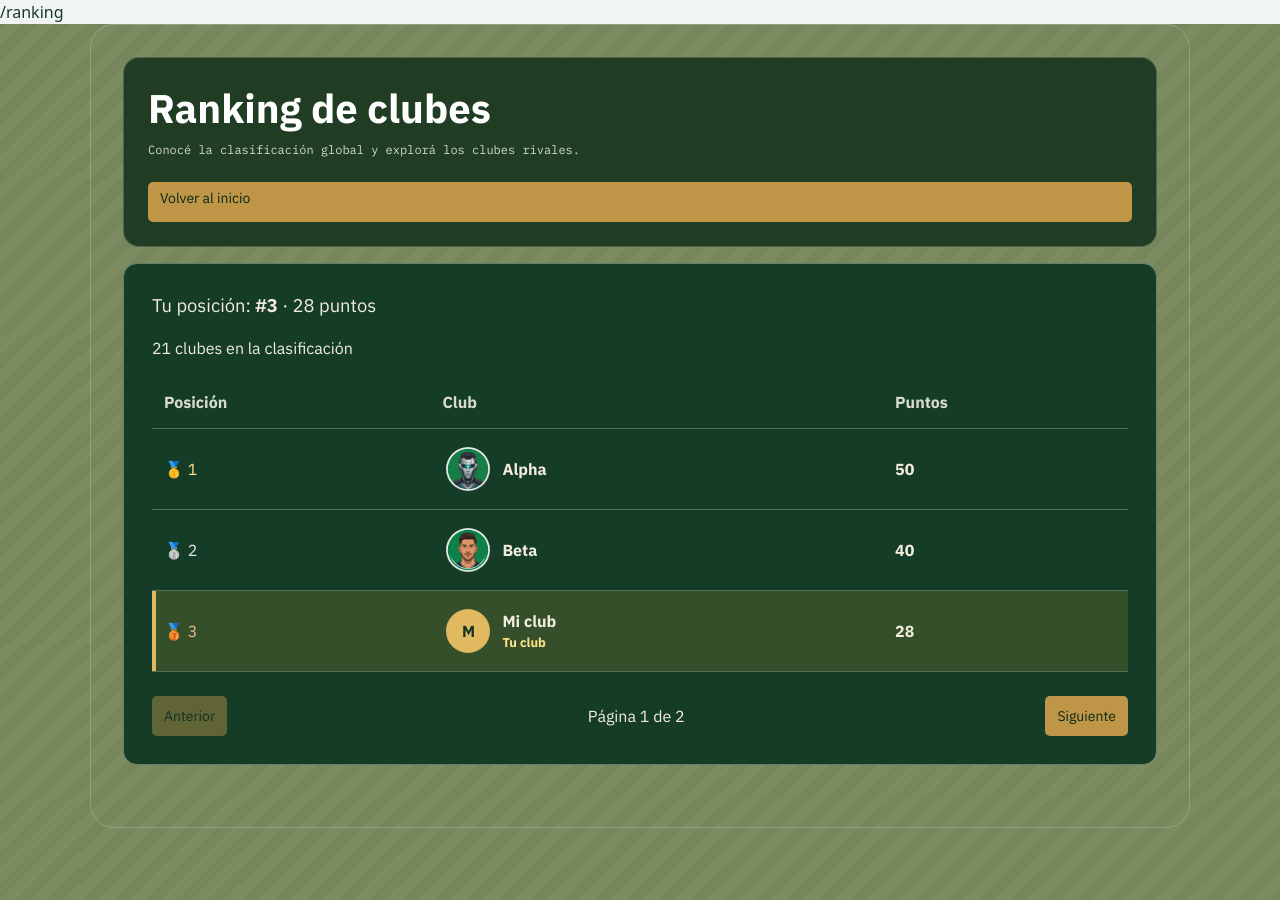
Ranking de clubes › abre el perfil al hacer clic en avatar sin navegar y devuelve el foco
Click the picture named "Escudo de Alpha" at (468, 469), box x1=446 y1=447 x2=490 y2=491
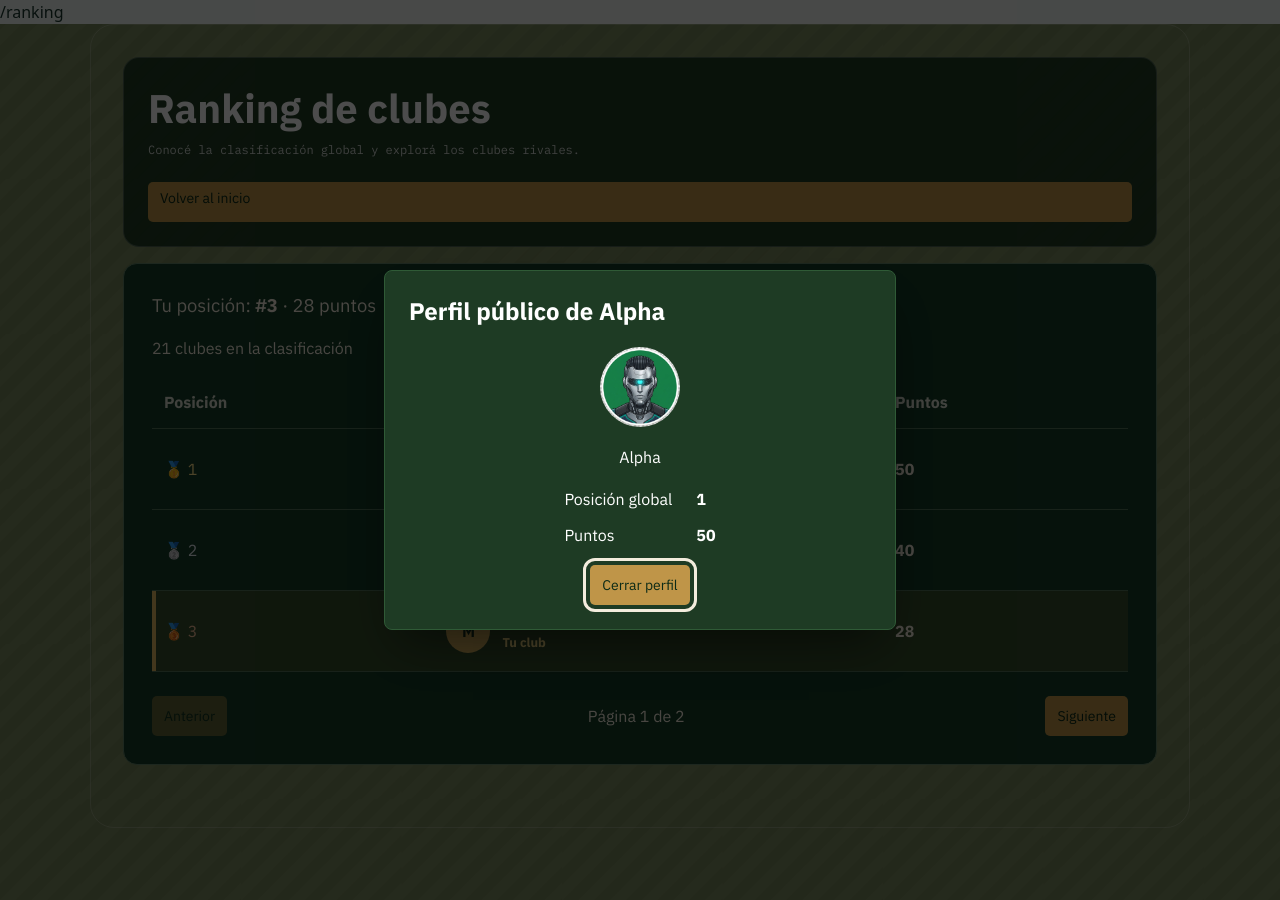
Check: the text named "Ruta actual" reads "/ranking", box x1=0 y1=1 x2=64 y2=23
Check: the text "50" is shown, box x1=696 y1=523 x2=716 y2=547
Press Escape
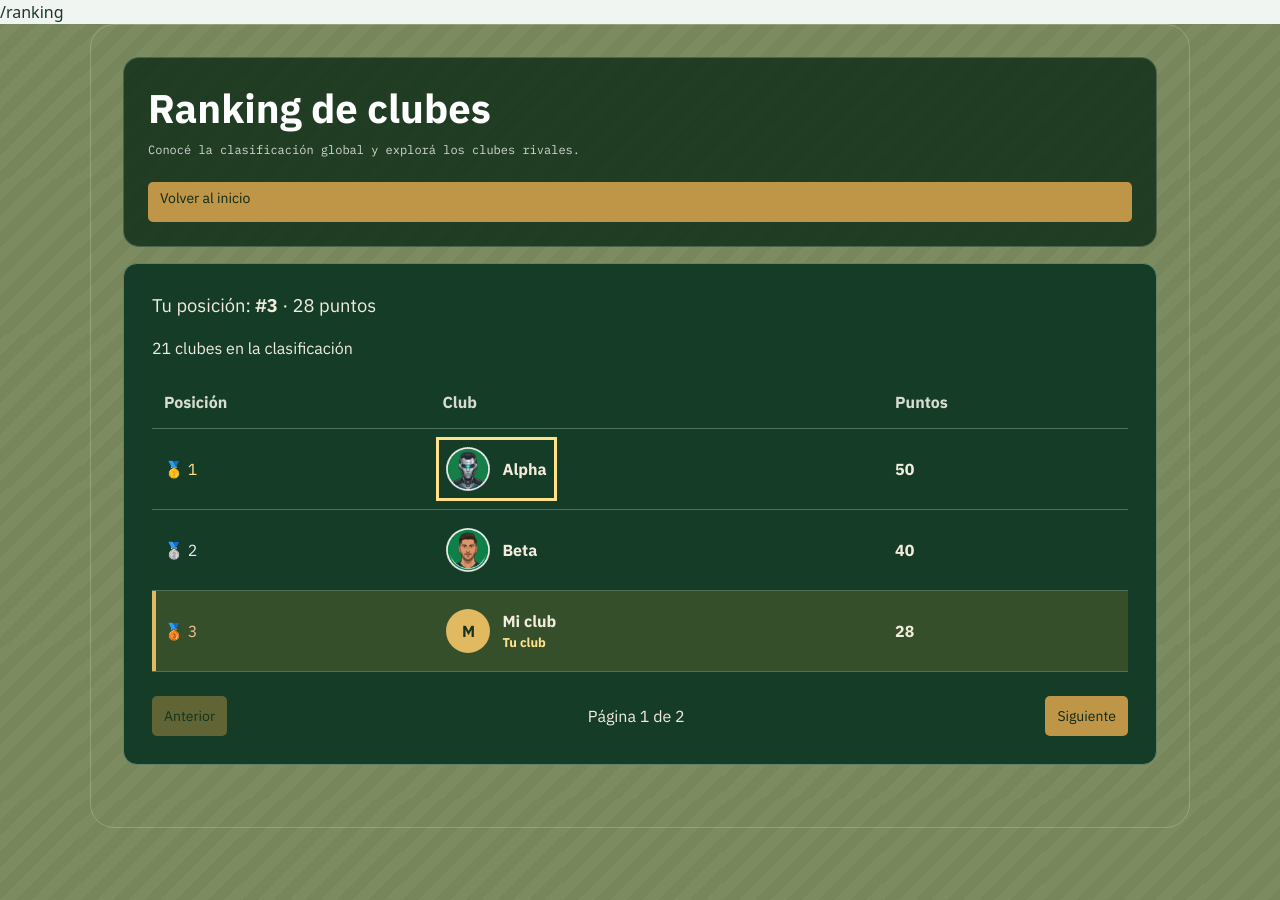
Check: the dialog is gone
